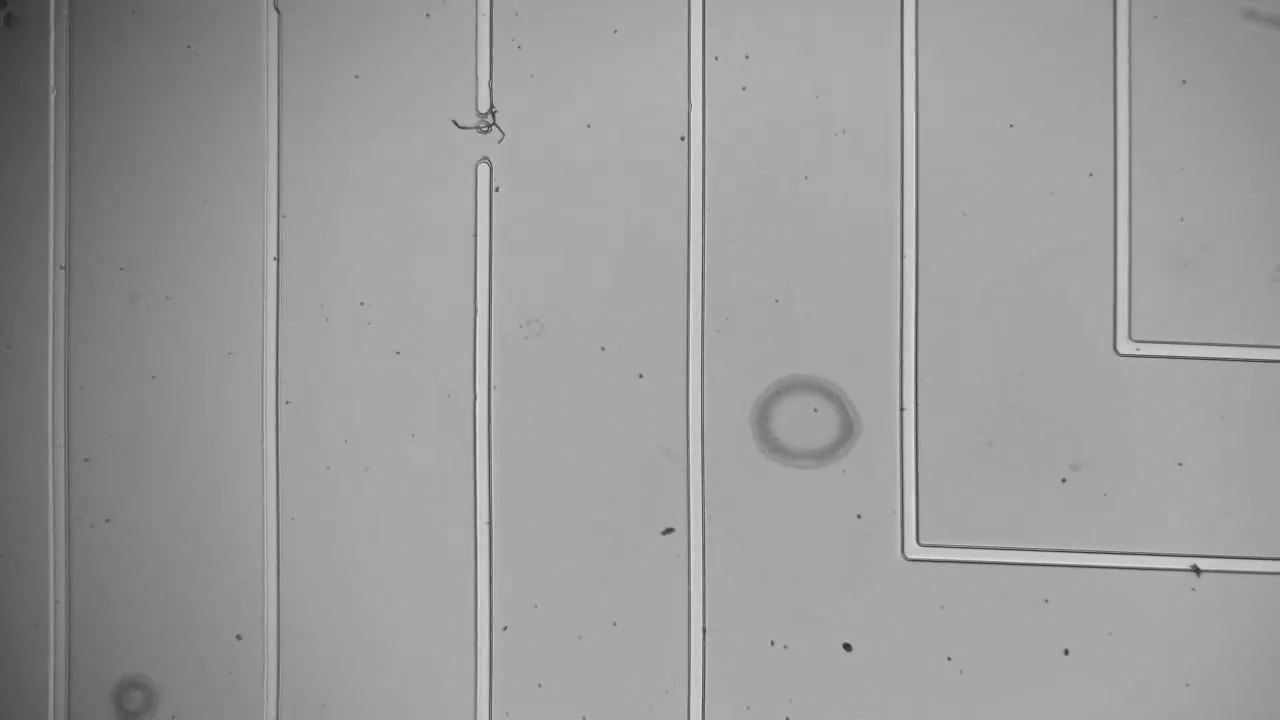edge_bite: (255, 1, 286, 22)
open: (467, 92, 499, 178)
stains_enbedded: (1182, 547, 1210, 583)
